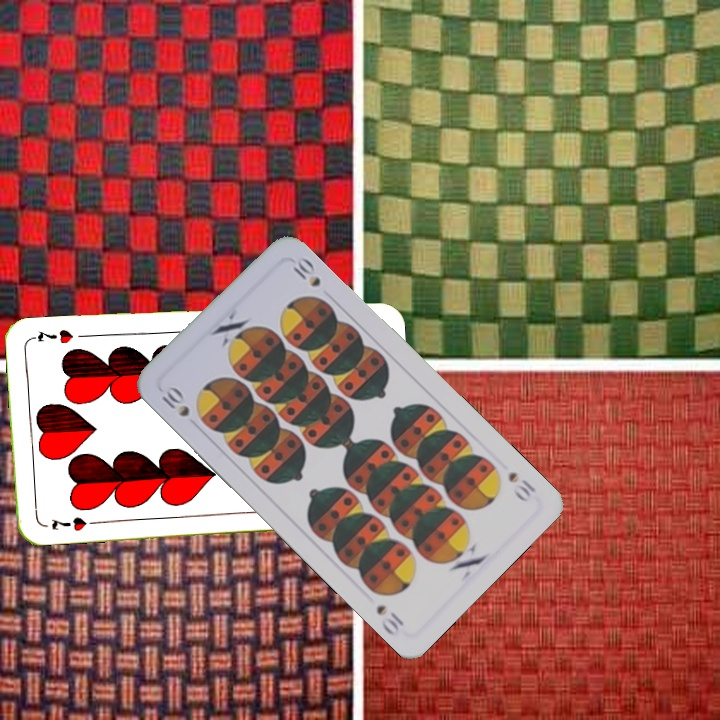H7: (48, 513, 89, 534)
S10: (155, 381, 192, 420), (504, 467, 539, 505)
